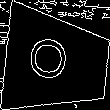O_E: (33, 38, 80, 87)
